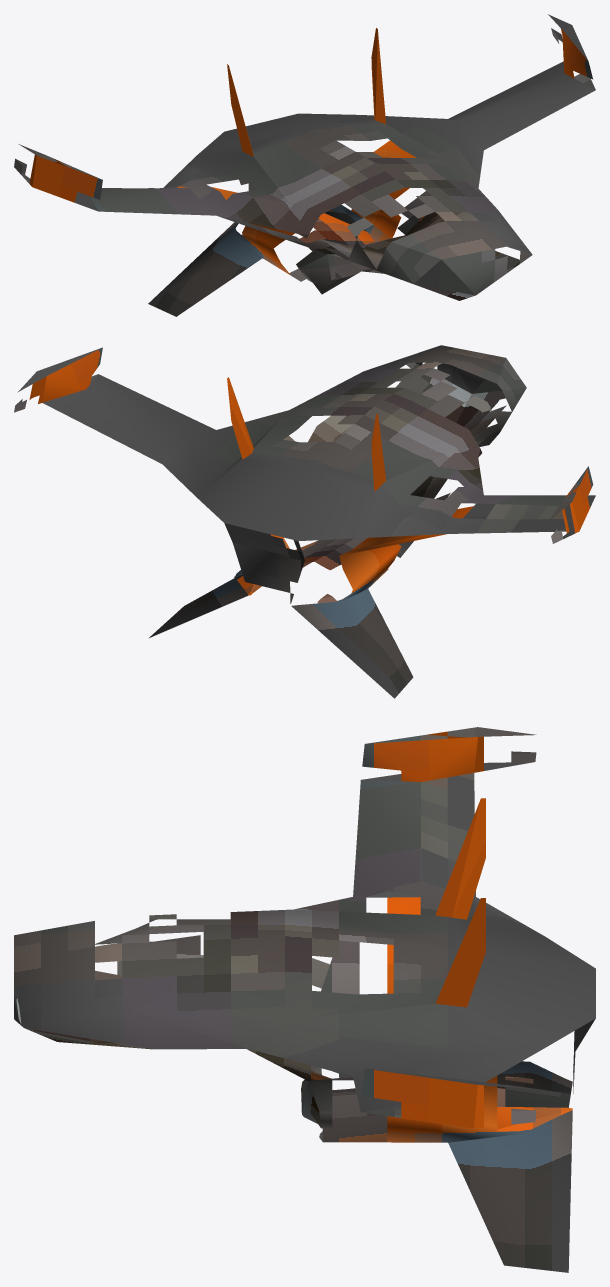
File: LOD2-UVFlip.obj
3 renders of one model, top to bottom at view 1: azimuth 30°, elevation 25°; view 2: azimuth 150°, elevation 25°; view 3: azimuth 270°, elevation 25°, orthographic. The views are drawn at different scales.
Visible parts, largest first — view 1: Hgn_Scout_LOD2_texture; view 2: Hgn_Scout_LOD2_texture; view 3: Hgn_Scout_LOD2_texture.
Boxes of the visible parts, box(x1,y1,x2,y2) form: Hgn_Scout_LOD2_texture: box(14, 14, 595, 316); Hgn_Scout_LOD2_texture: box(14, 345, 595, 698); Hgn_Scout_LOD2_texture: box(14, 727, 595, 1272).
Bounding box in the file's own units: 15.98 × 6.98 × 10.75.
